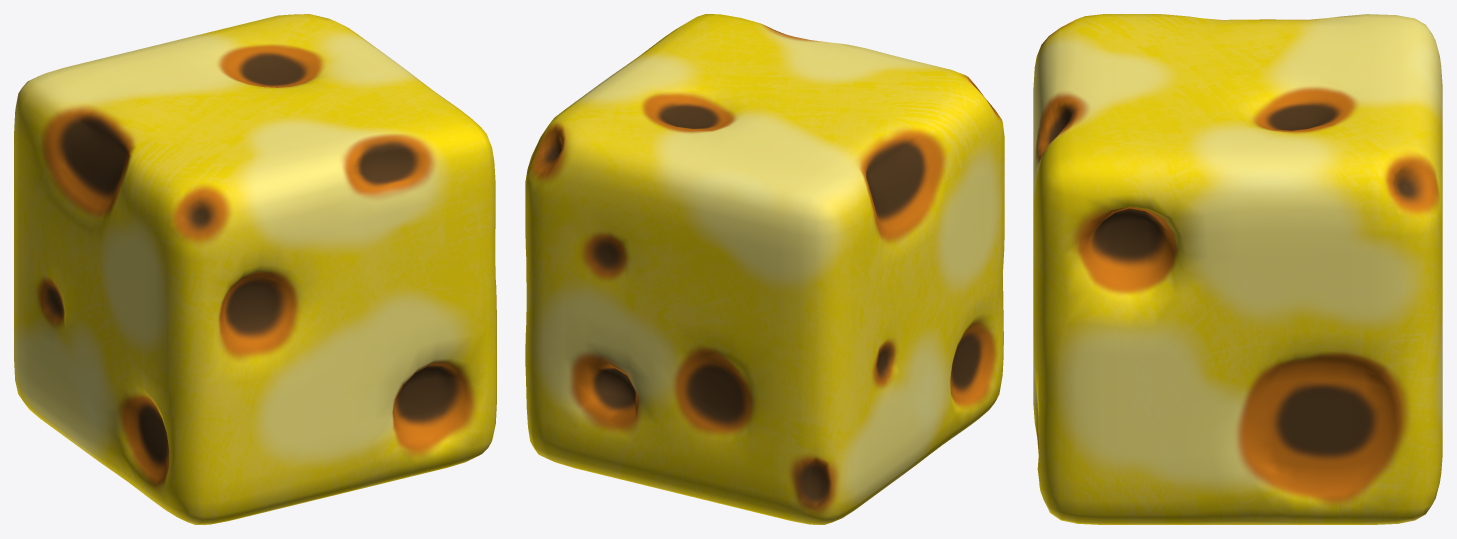
Rendered from texturedCheeseCube.fbx.
3 renders of one model, left to right at view 1: azimuth 30°, elevation 25°; view 2: azimuth 150°, elevation 25°; view 3: azimuth 270°, elevation 25°, orthographic. The views are drawn at different scales.
Visible parts, largest first — view 1: cheese; view 2: cheese; view 3: cheese.
Part boxes in pixels (x1,y1,x2,y2): cheese: (14, 14, 496, 524); cheese: (525, 14, 1004, 524); cheese: (1033, 14, 1442, 524).
Size of the model in its own units: 10 by 10 by 10.
Materials: 1 (1 with a texture image).
